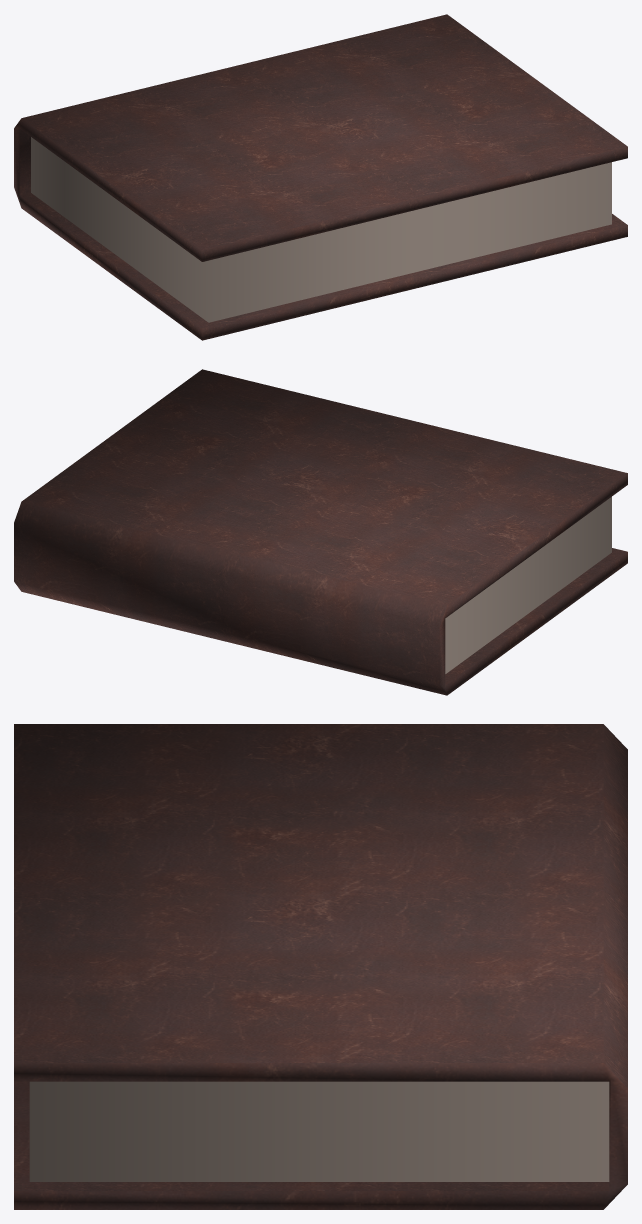
Rendered from book.glb.
3 views of the same model, one above another, from view 1: azimuth 30°, elevation 25°; view 2: azimuth 150°, elevation 25°; view 3: azimuth 270°, elevation 25° (orthographic). The views are drawn at different scales.
Visible parts, largest first — view 1: Book; view 2: Book; view 3: Book.
Boxes of the visible parts, x1=… form: Book: x1=14, y1=14, x2=627, y2=340; Book: x1=14, y1=369, x2=627, y2=695; Book: x1=14, y1=724, x2=627, y2=1209.
Bounding box in the file's own units: 0.626 × 0.1267 × 0.4794.
2 materials, 2 textured.
